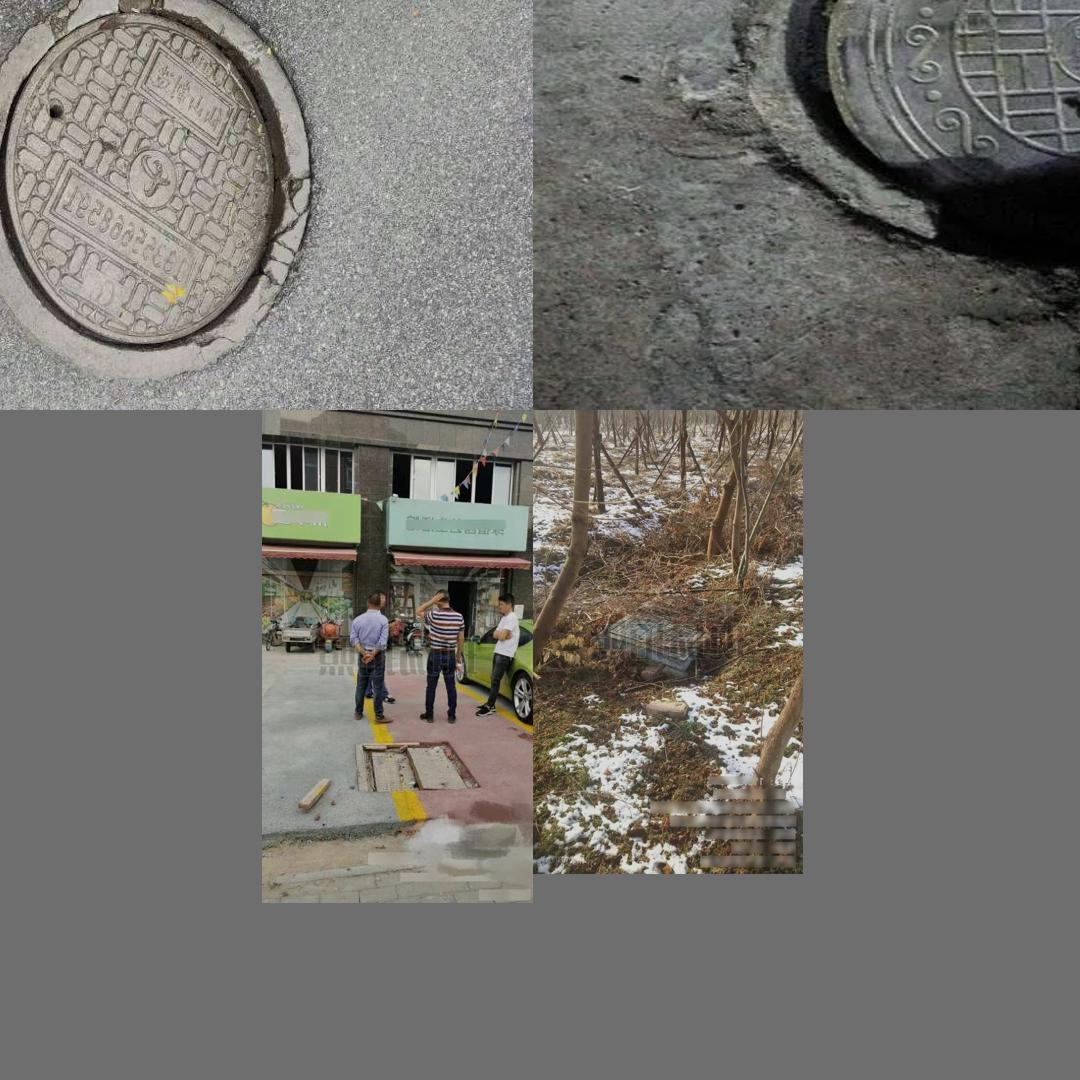circle: (0, 0, 358, 377), (711, 0, 1080, 283), (596, 589, 736, 674), (355, 742, 474, 794)
